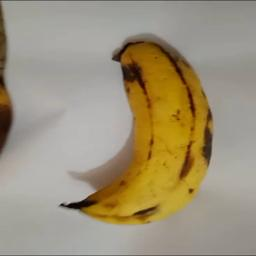Banana Semifresh: (60, 35, 217, 225)
